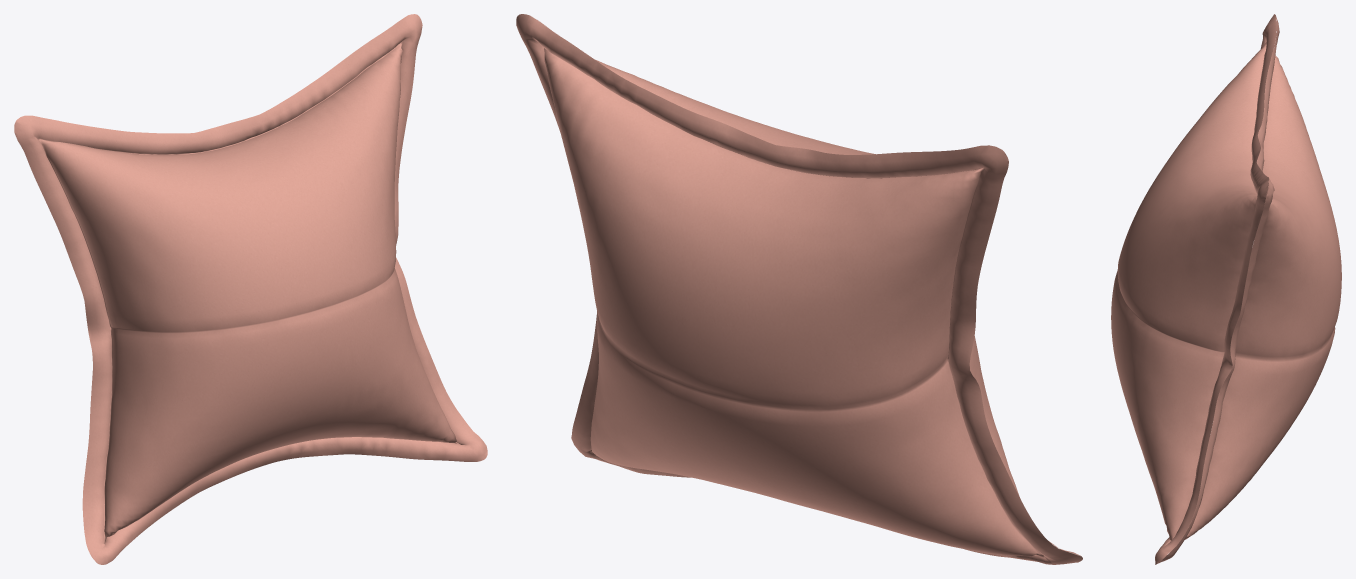
Rendered from bardot.gltf.
3 renders of one model, left to right at view 1: azimuth 30°, elevation 25°; view 2: azimuth 150°, elevation 25°; view 3: azimuth 270°, elevation 25°, orthographic. The views are drawn at different scales.
Parts seen in each view (by area): view 1: Mesh2; view 2: Mesh2; view 3: Mesh2.
Part boxes in pixels (left/top/right/bottom): Mesh2: left=14, top=14, right=487, bottom=564; Mesh2: left=516, top=14, right=1082, bottom=564; Mesh2: left=1111, top=14, right=1341, bottom=564.
Size of the model in its own units: 0.4828 by 0.4541 by 0.249.
Materials: 1 (1 with a texture image).
